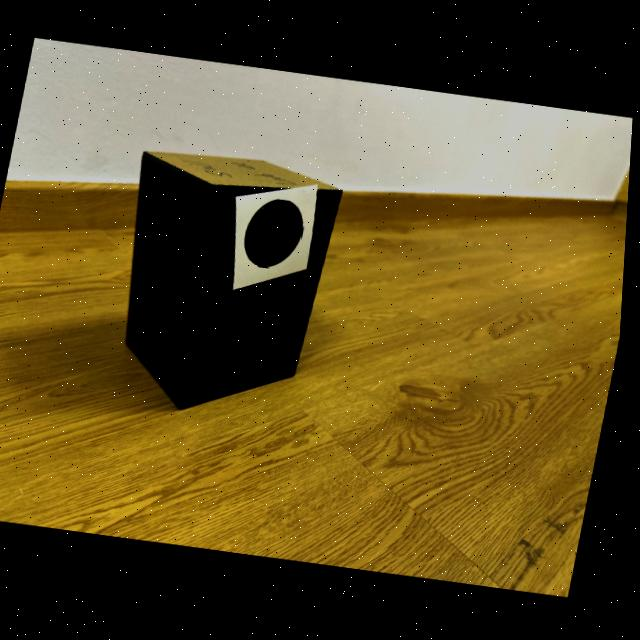CIRCLE: (248, 201, 306, 268)
